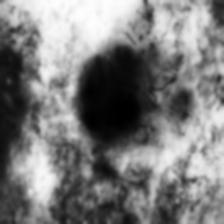Potentially Malignant Skin Tumors: (82, 50, 146, 142)
